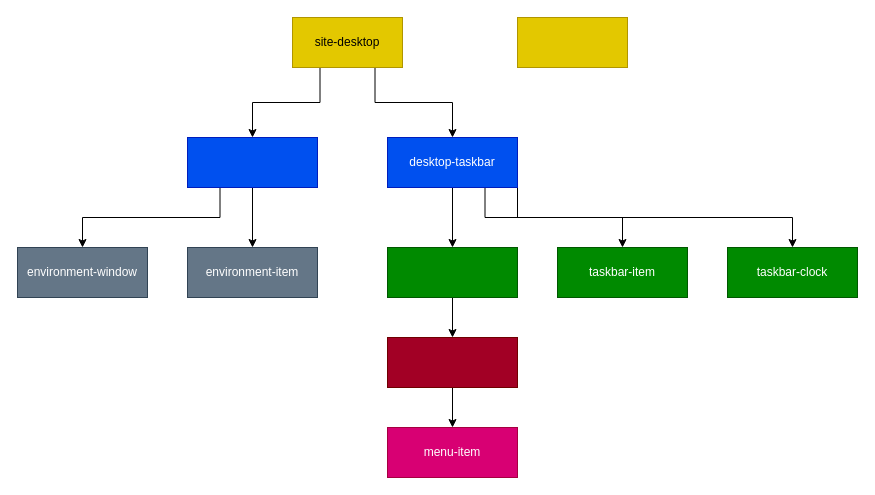
This 875x495 diagram has some shape labels left out. The centre of each missing label's shape, as x and y in pixels:
desktop-environment: point (252, 162)
site-store: point (572, 42)
start-menu: point (452, 362)
taskbar-start: point (452, 272)
